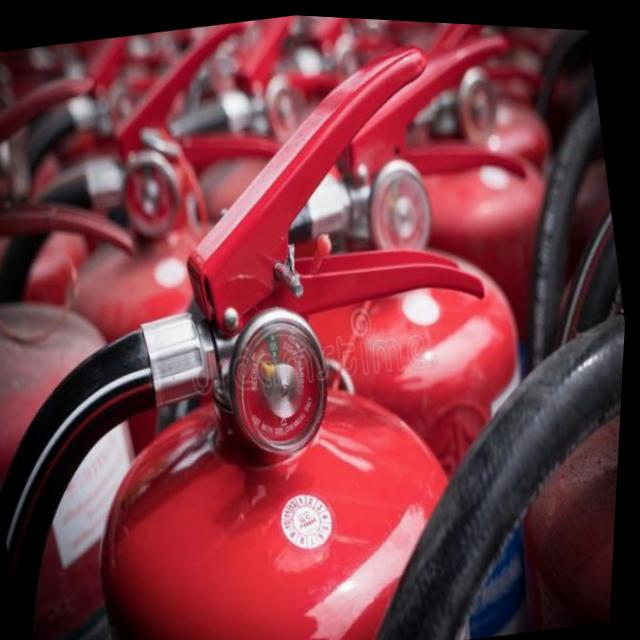FireExtinguisher: (0, 9, 560, 640), (116, 6, 627, 640), (0, 2, 389, 640), (0, 61, 223, 640)
